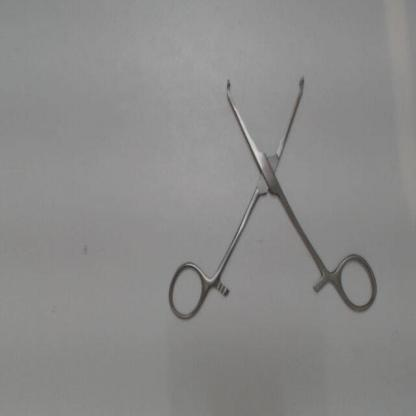Allis Tissue Forceps: (156, 68, 384, 329)
